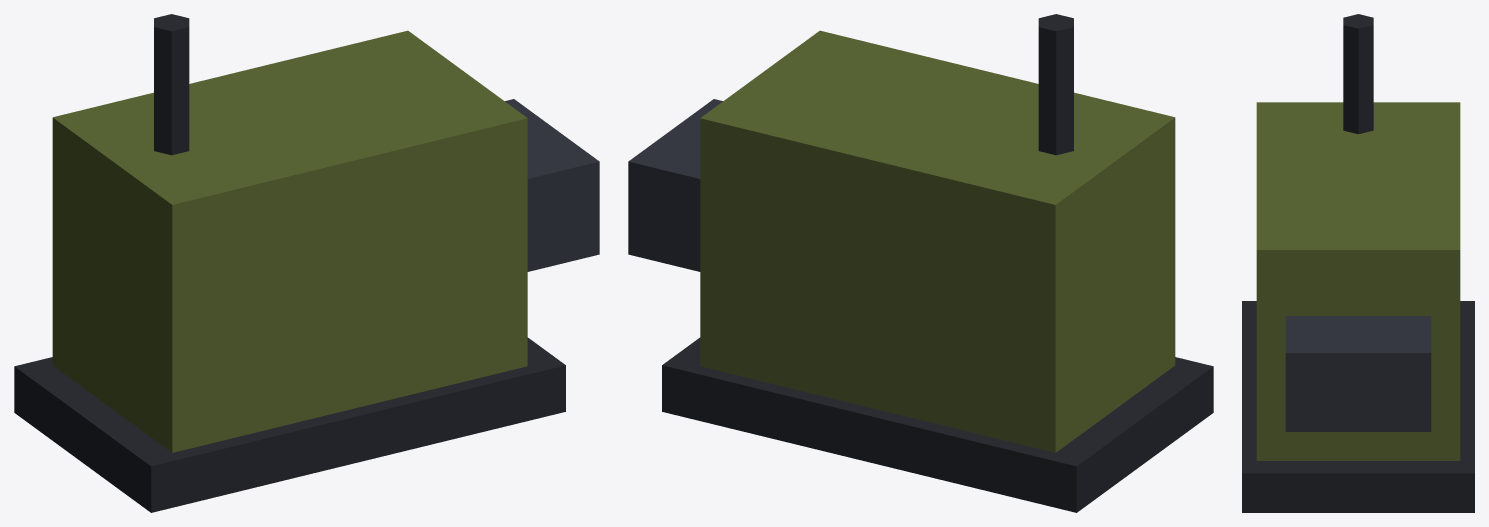
The model's file is generator.glb.
3 renders of one model, left to right at view 1: azimuth 30°, elevation 25°; view 2: azimuth 150°, elevation 25°; view 3: azimuth 270°, elevation 25°, orthographic. The views are drawn at different scales.
Visible parts, largest first — view 1: model; view 2: model; view 3: model.
Part boxes in pixels (box(x1,y1,x2,y2)): model: box(14, 14, 599, 512); model: box(628, 14, 1213, 512); model: box(1242, 14, 1474, 512).
Bounding box in the file's own units: 1.6 × 1.35 × 0.8.
